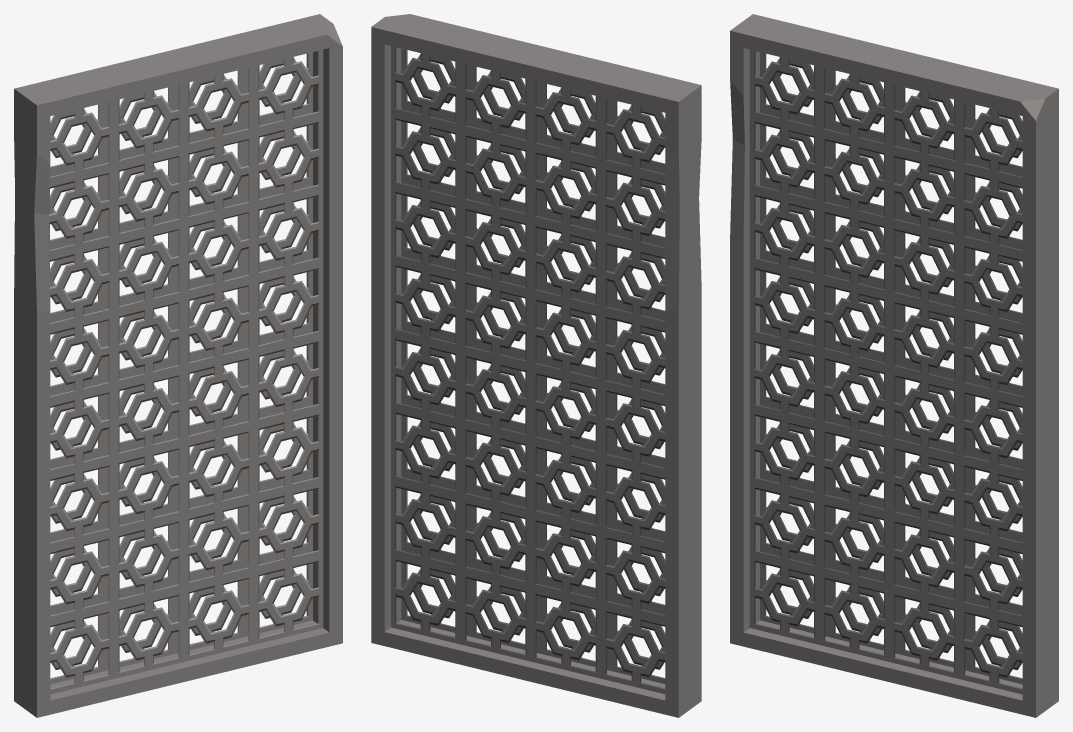
Rendered from SM_Bld_Decorative_Block_08.fbx.
The picture shows the model from 3 angles, left to right: view 1: azimuth 30°, elevation 25°; view 2: azimuth 150°, elevation 25°; view 3: azimuth 330°, elevation 25°; orthographic projection.
Parts seen in each view (by area): view 1: SM_Bld_Decorative_Block_08; view 2: SM_Bld_Decorative_Block_08; view 3: SM_Bld_Decorative_Block_08.
Boxes of the visible parts, x1=… form: SM_Bld_Decorative_Block_08: x1=14, y1=14, x2=342, y2=717; SM_Bld_Decorative_Block_08: x1=371, y1=14, x2=701, y2=717; SM_Bld_Decorative_Block_08: x1=730, y1=14, x2=1058, y2=717.
Bounding box in the file's own units: 182 × 348 × 23.56.
